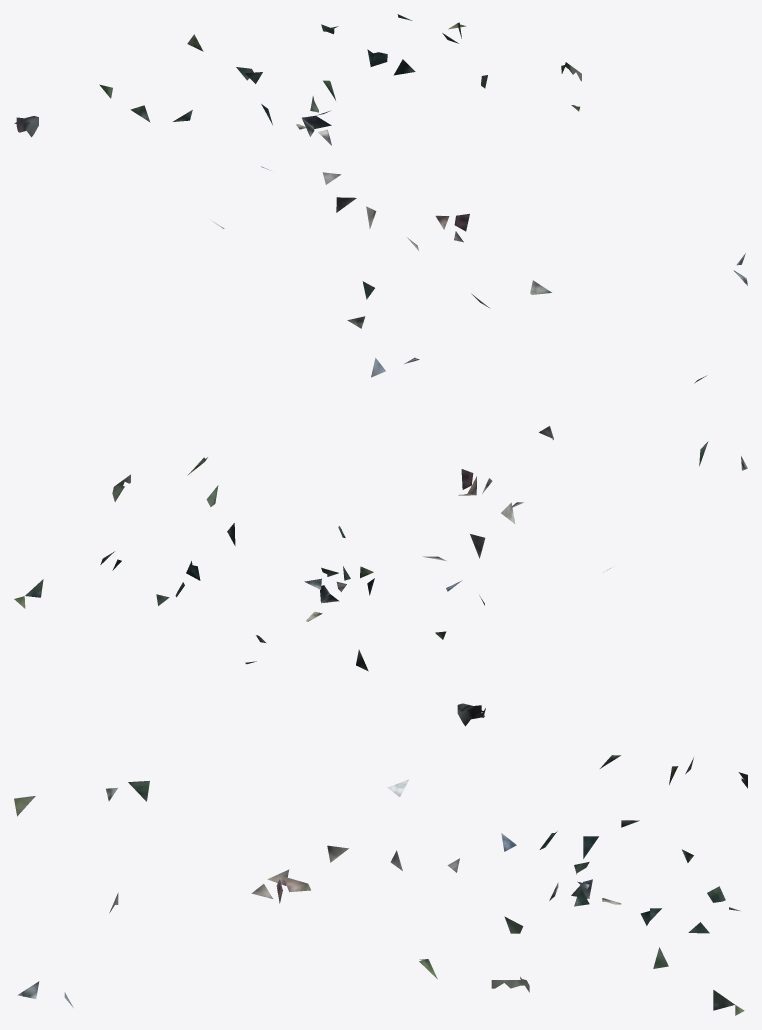
3 renders of one model, top to bottom at view 1: azimuth 30°, elevation 25°; view 2: azimuth 150°, elevation 25°; view 3: azimuth 270°, elevation 25°, orthographic. The views are drawn at different scales.
Parts seen in each view (by area): view 1: 3043627270436172770_1; view 2: 3043627270436172770_1; view 3: 3043627270436172770_1.
Boxes of the visible parts, box(x1,y1,x2,y2) form: 3043627270436172770_1: box(14, 14, 747, 328); 3043627270436172770_1: box(14, 357, 747, 726); 3043627270436172770_1: box(14, 755, 747, 1015).
Size of the model in its own units: 54.92 by 11.09 by 71.58.
1 material, 1 textured.
